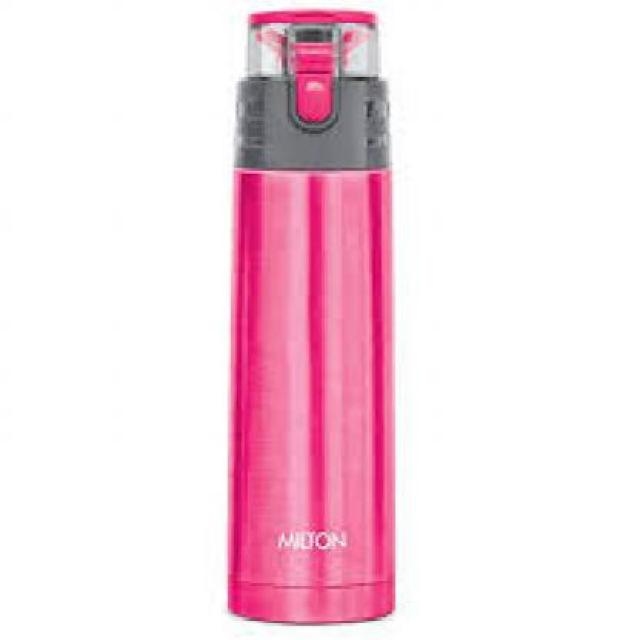Drinking: (228, 22, 406, 635)
